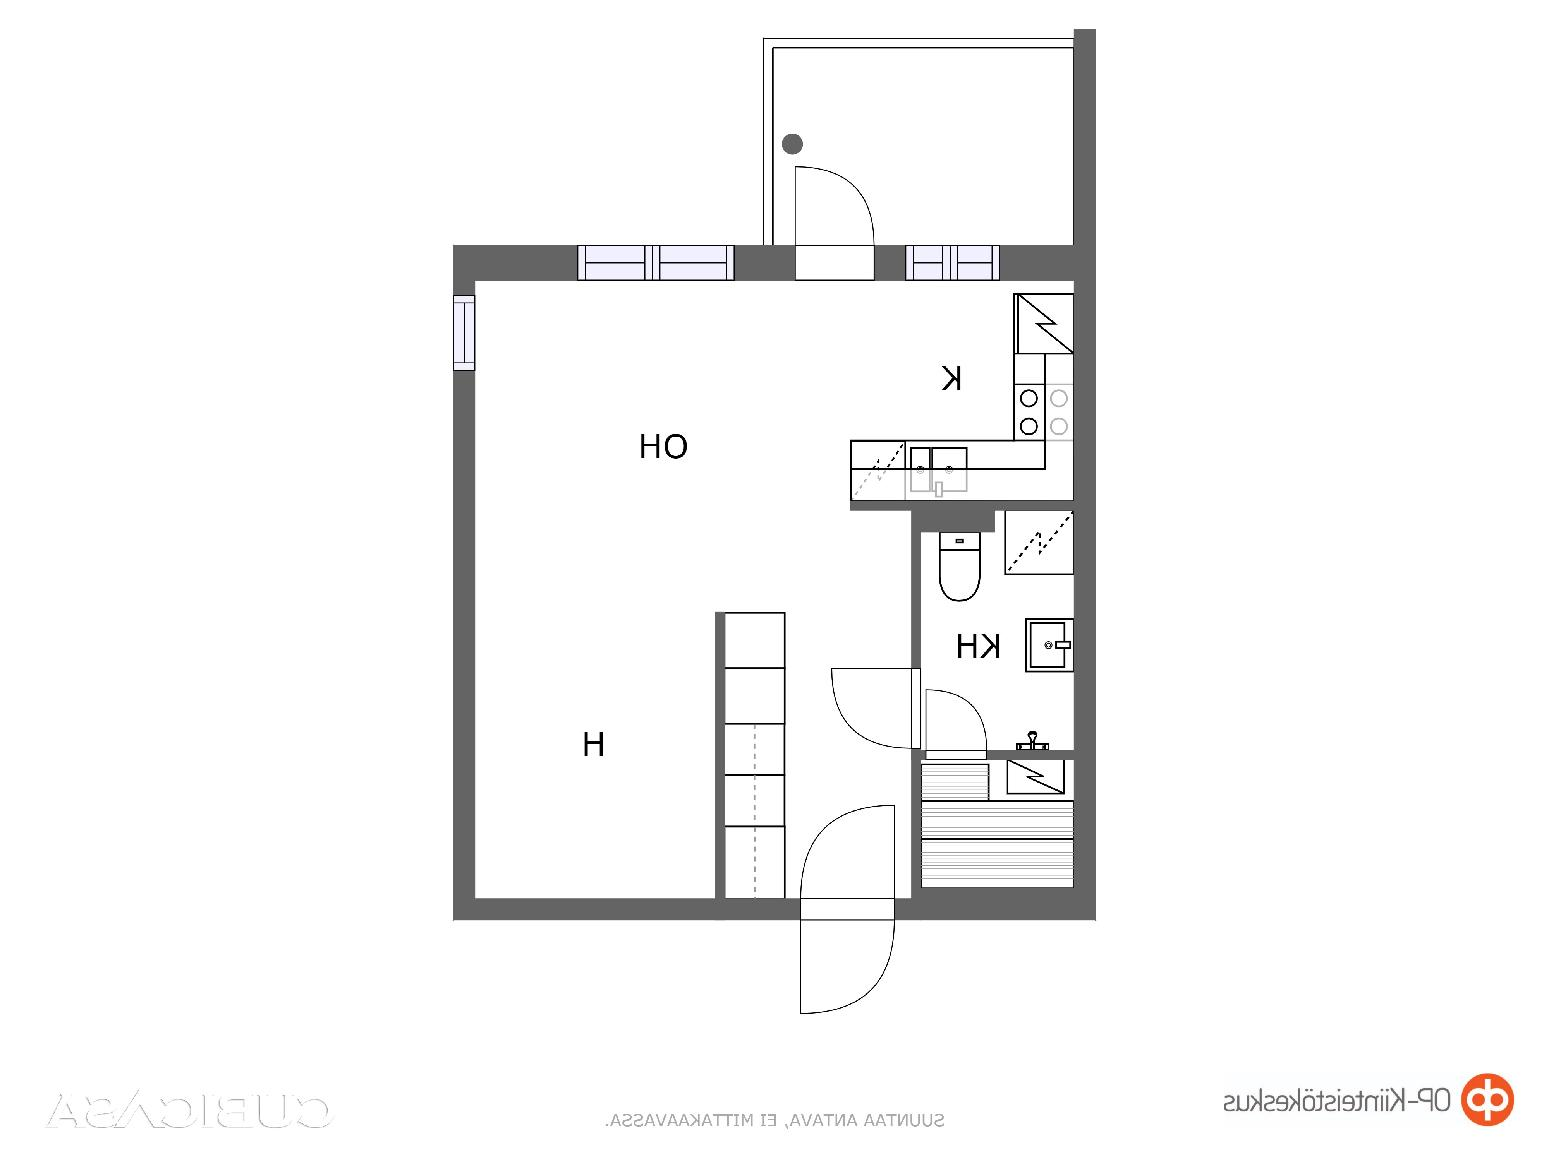door: (800, 804, 896, 1015), (792, 163, 882, 276), (828, 663, 923, 760), (918, 684, 992, 767)
window: (579, 243, 733, 287), (903, 243, 996, 280), (450, 294, 474, 373)
zone: (476, 280, 1068, 898), (774, 41, 1066, 248), (921, 511, 1075, 748), (918, 757, 1076, 887)
